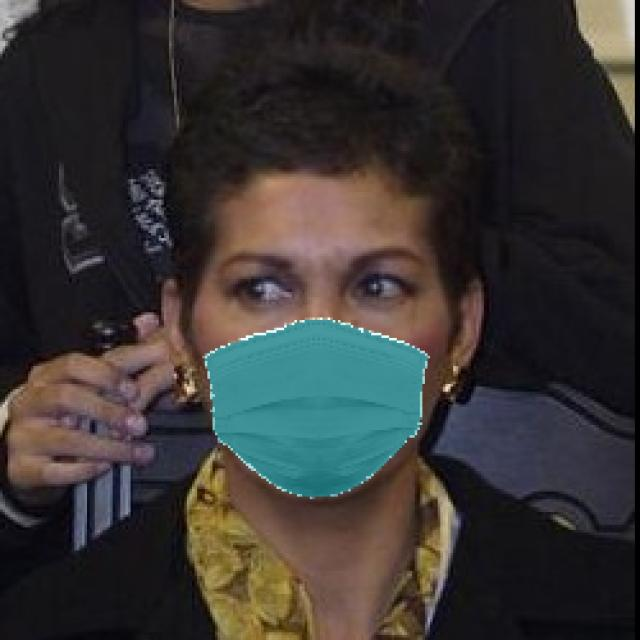mask: (198, 330, 460, 511)
